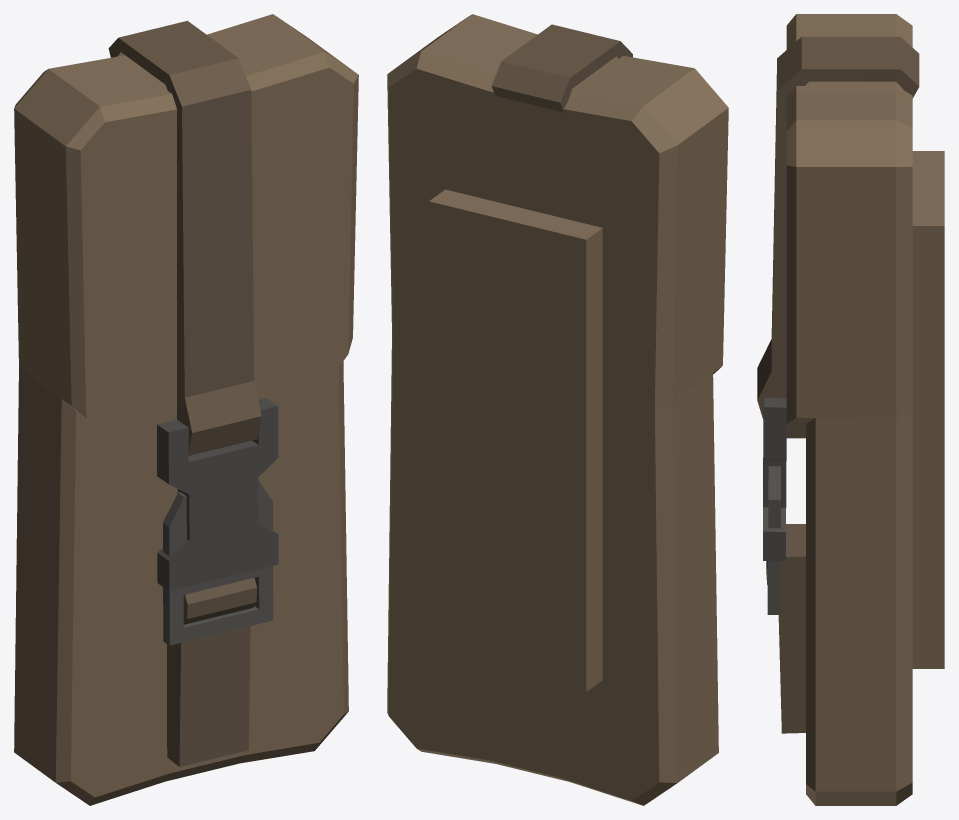
The model's file is Pouch_06_SM.FBX.
The picture shows the model from 3 angles, left to right: view 1: azimuth 30°, elevation 25°; view 2: azimuth 150°, elevation 25°; view 3: azimuth 270°, elevation 25°; orthographic projection. The views are drawn at different scales.
Parts seen in each view (by area): view 1: Pouch_06_SM; view 2: Pouch_06_SM; view 3: Pouch_06_SM.
Part boxes in pixels (<box>): Pouch_06_SM: <box>14,14,358,805</box>; Pouch_06_SM: <box>387,14,728,805</box>; Pouch_06_SM: <box>757,14,944,805</box>.
Size of what is drawn, in the model's own units: 7.87 by 4.49 by 18.44.
